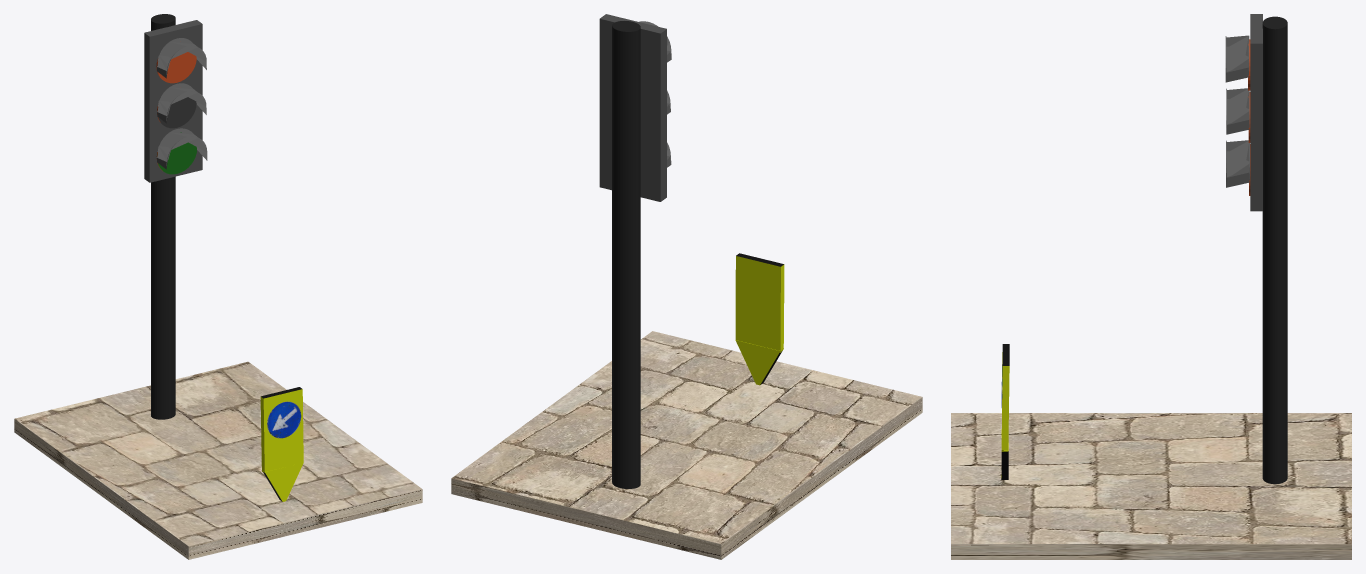
The model's file is qubeTest.glb.
3 renders of one model, left to right at view 1: azimuth 30°, elevation 25°; view 2: azimuth 150°, elevation 25°; view 3: azimuth 270°, elevation 25°, orthographic. The views are drawn at different scales.
Parts seen in each view (by area): view 1: Cube, Cylinder, Cube.003, Cube.002, Cylinder.001, Cylinder.008, Cylinder.003, Cylinder.006, Cube.001, Cylinder.007, Cylinder.002, Cylinder.005; view 2: Cube, Cylinder, Cube.003, Cube.002, Cube.001; view 3: Cube, Cylinder, Cube.003, Cylinder.003, Cylinder.008, Cylinder.006, Cube.002.
Part boxes in pixels (x1,y1,x2,y2): Cube: (14,361,422,559); Cylinder: (151,14,175,419); Cube.003: (144,20,202,182); Cube.002: (260,387,303,472); Cylinder.001: (267,401,301,438); Cylinder.008: (156,128,207,169); Cylinder.003: (157,38,206,78); Cylinder.006: (157,83,206,123); Cube.001: (262,462,303,501); Cylinder.007: (156,132,196,174); Cylinder.002: (156,52,196,83); Cylinder.005: (157,97,196,128); Cube: (451,331,922,559); Cylinder: (612,21,640,488); Cube.003: (599,14,666,201); Cube.002: (735,253,784,352); Cube.001: (735,340,783,385); Cube: (951,413,1351,559); Cylinder: (1262,16,1287,484); Cube.003: (1250,14,1262,211); Cylinder.003: (1225,35,1249,82); Cylinder.008: (1226,140,1249,187); Cylinder.006: (1226,88,1249,134); Cube.002: (1001,344,1009,451).
Bounding box in the file's own units: 1.76 × 2.95 × 2.28.
Materials: 12 (2 with a texture image).
